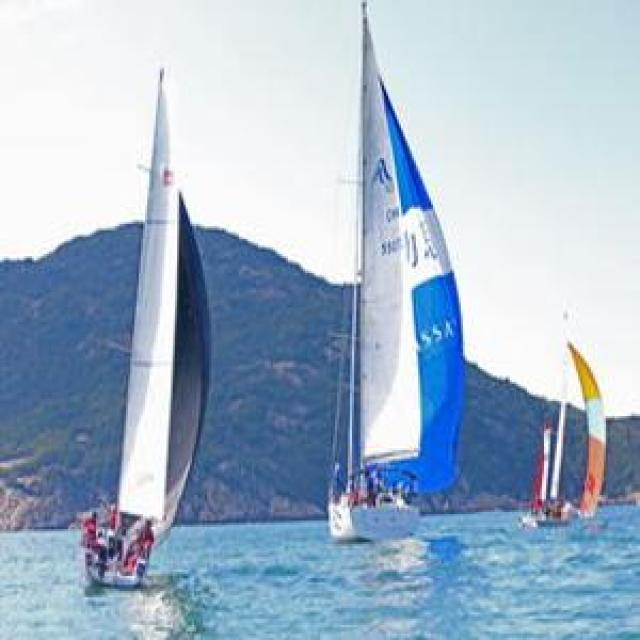sailboat: (65, 60, 213, 590), (320, 0, 463, 540), (544, 299, 612, 527), (516, 414, 554, 534)
